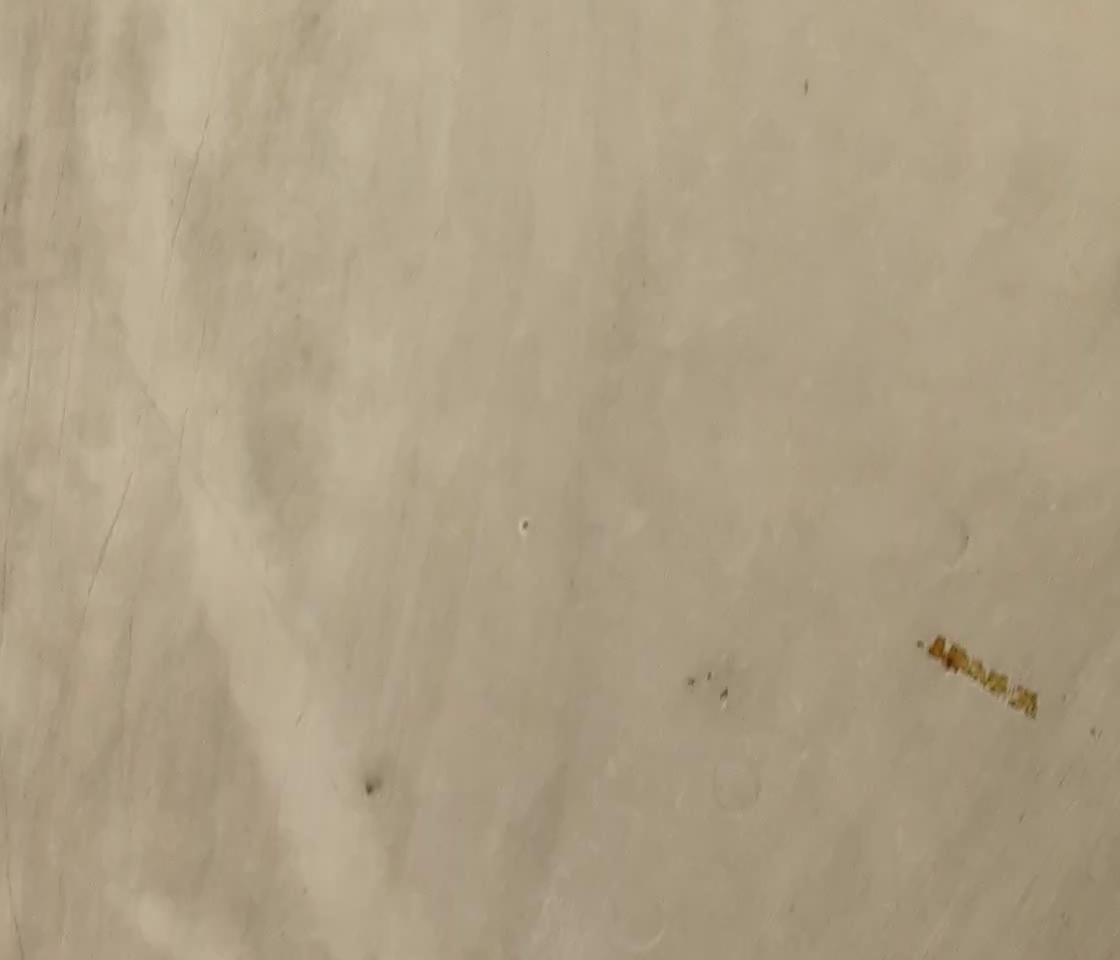rust: (924, 631, 973, 681)
